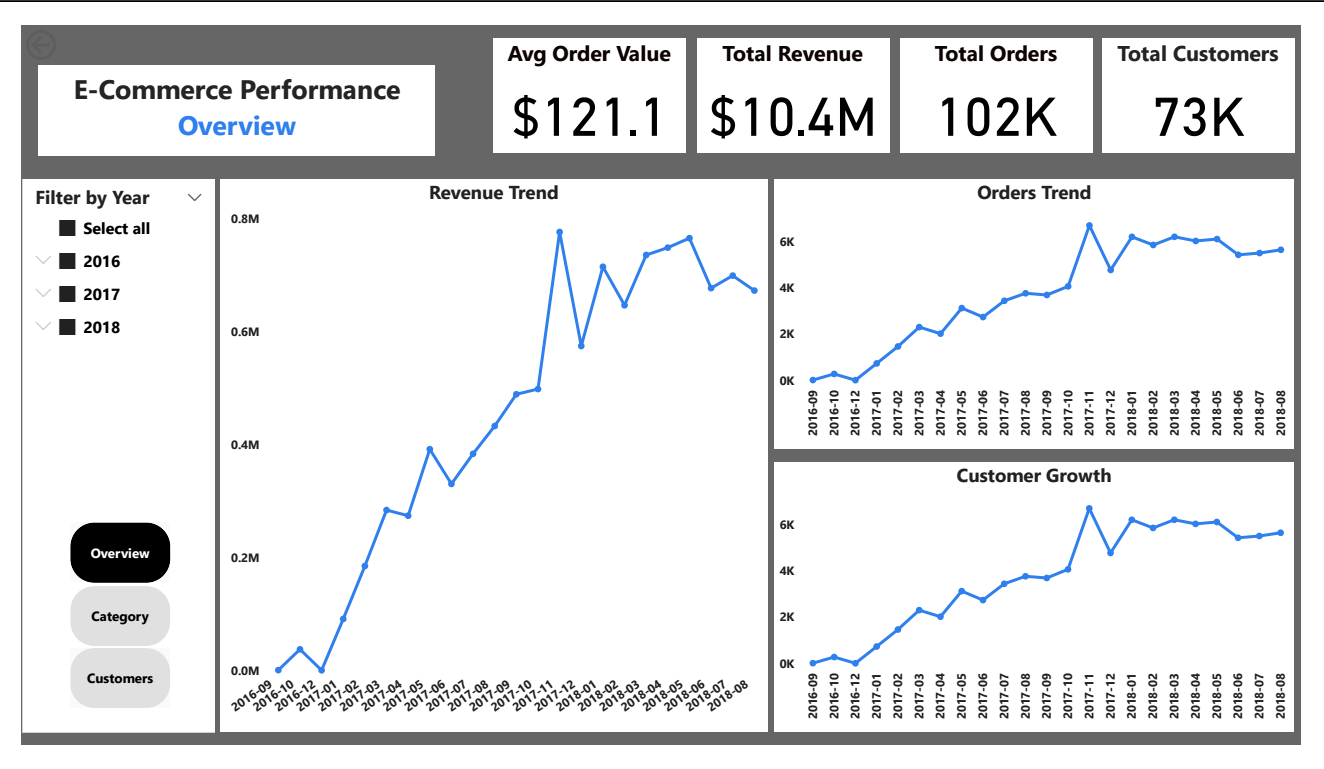

Layout of this report page (visuals, bound fields, positions):
{"tool":"powerbi","page":{"name":"Overview","canvas":[1280,720],"ordinal":0},"visuals":[{"type":"actionButton","box":[0,0,100,40],"z":0},{"type":"lineChart","title":"Revenue Trend","fields":{"Y":["Sum(Order Items Clean.item_revenue)"],"Category":["Date.Year-Month"]},"box":[198.7,154.2,548.3,553.1],"z":1000},{"type":"lineChart","title":"Orders Trend","fields":{"Y":["CountNonNull(Order Items Clean.order_id)"],"Category":["Date.Year-Month"]},"box":[753.4,154.2,520,270],"z":2000},{"type":"lineChart","title":"Customer Growth","fields":{"Y":["CountNonNull(Order Items Clean.customer_unique_id)"],"Category":["Date.Year-Month"]},"box":[753.4,437.1,519.7,270.2],"z":3000},{"type":"shape","box":[1.6,154.2,192.3,553.1],"z":4000},{"type":"card","title":"Total Revenue","fields":{"Values":["Order Items Clean.Neww Total Revenue"]},"box":[674.9,13,192.5,114.9],"z":5000},{"type":"card","title":"Total Orders","fields":{"Values":["Sum(Order Items Clean.order_item_id)"]},"box":[878.2,13,192.5,114.9],"z":6000},{"type":"card","title":"Total Customers","fields":{"Values":["Date.Total Customers"]},"box":[1081.5,12.8,193,115],"z":7000},{"type":"slicer","fields":{"Values":["Date.Year","Order Items Clean.product_category_name_english","Date.Month"]},"box":[1.6,154.2,192.3,270.2],"z":8000},{"type":"card","title":"Avg Order Value","fields":{"Values":["Date.AOV"]},"box":[471.7,13,192.5,114.9],"z":9000},{"type":"textbox","box":[17.5,39.7,397.4,90.6],"z":10000},{"type":"shape","box":[49.8,497.5,100.1,60.4],"z":11000},{"type":"shape","box":[49.9,560.8,100,60],"z":12000},{"type":"shape","box":[49.9,623.6,100,60],"z":13000}]}

Visuals, with their boxes on the page's 1280x720 design canvas (x1, y1, x2, y2). These are canvas units, not pixel positions in the 1324x769 screenshot, which may show the page scaled, cropped or inside an application window:
actionButton: <box>0,0,100,40</box>
"Revenue Trend" lineChart: <box>199,154,747,707</box>
"Orders Trend" lineChart: <box>753,154,1273,424</box>
"Customer Growth" lineChart: <box>753,437,1273,707</box>
shape: <box>2,154,194,707</box>
"Total Revenue" card: <box>675,13,867,128</box>
"Total Orders" card: <box>878,13,1071,128</box>
"Total Customers" card: <box>1082,13,1274,128</box>
slicer - Date.Year x Order Items Clean.product_category_name_english: <box>2,154,194,424</box>
"Avg Order Value" card: <box>472,13,664,128</box>
textbox: <box>18,40,415,130</box>
shape: <box>50,498,150,558</box>
shape: <box>50,561,150,621</box>
shape: <box>50,624,150,684</box>
